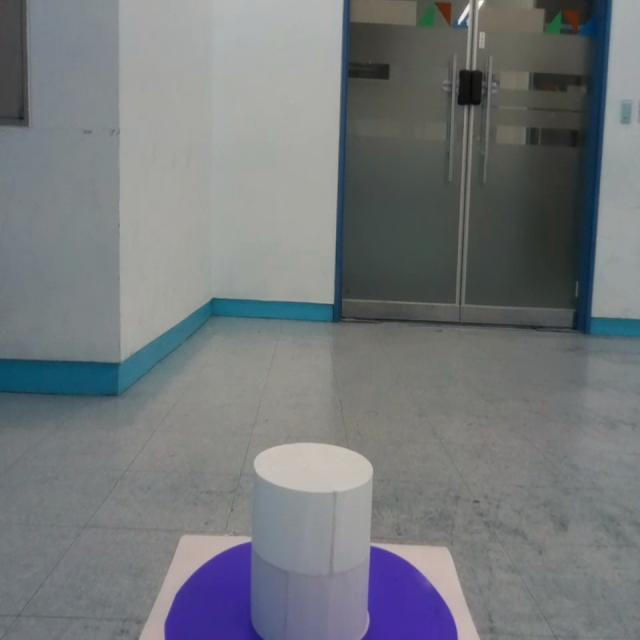cylinder: (250, 442, 374, 638)
